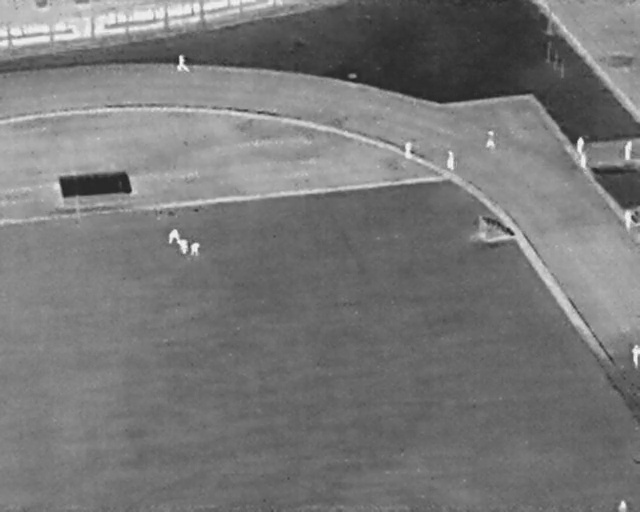Person: (177, 54, 190, 72), (445, 150, 455, 171), (632, 344, 640, 369), (624, 140, 633, 161), (625, 209, 633, 232), (486, 130, 496, 148), (169, 229, 180, 245), (178, 239, 189, 255), (404, 141, 413, 159), (576, 137, 585, 154), (579, 152, 588, 168), (617, 498, 627, 512), (191, 242, 200, 256)
